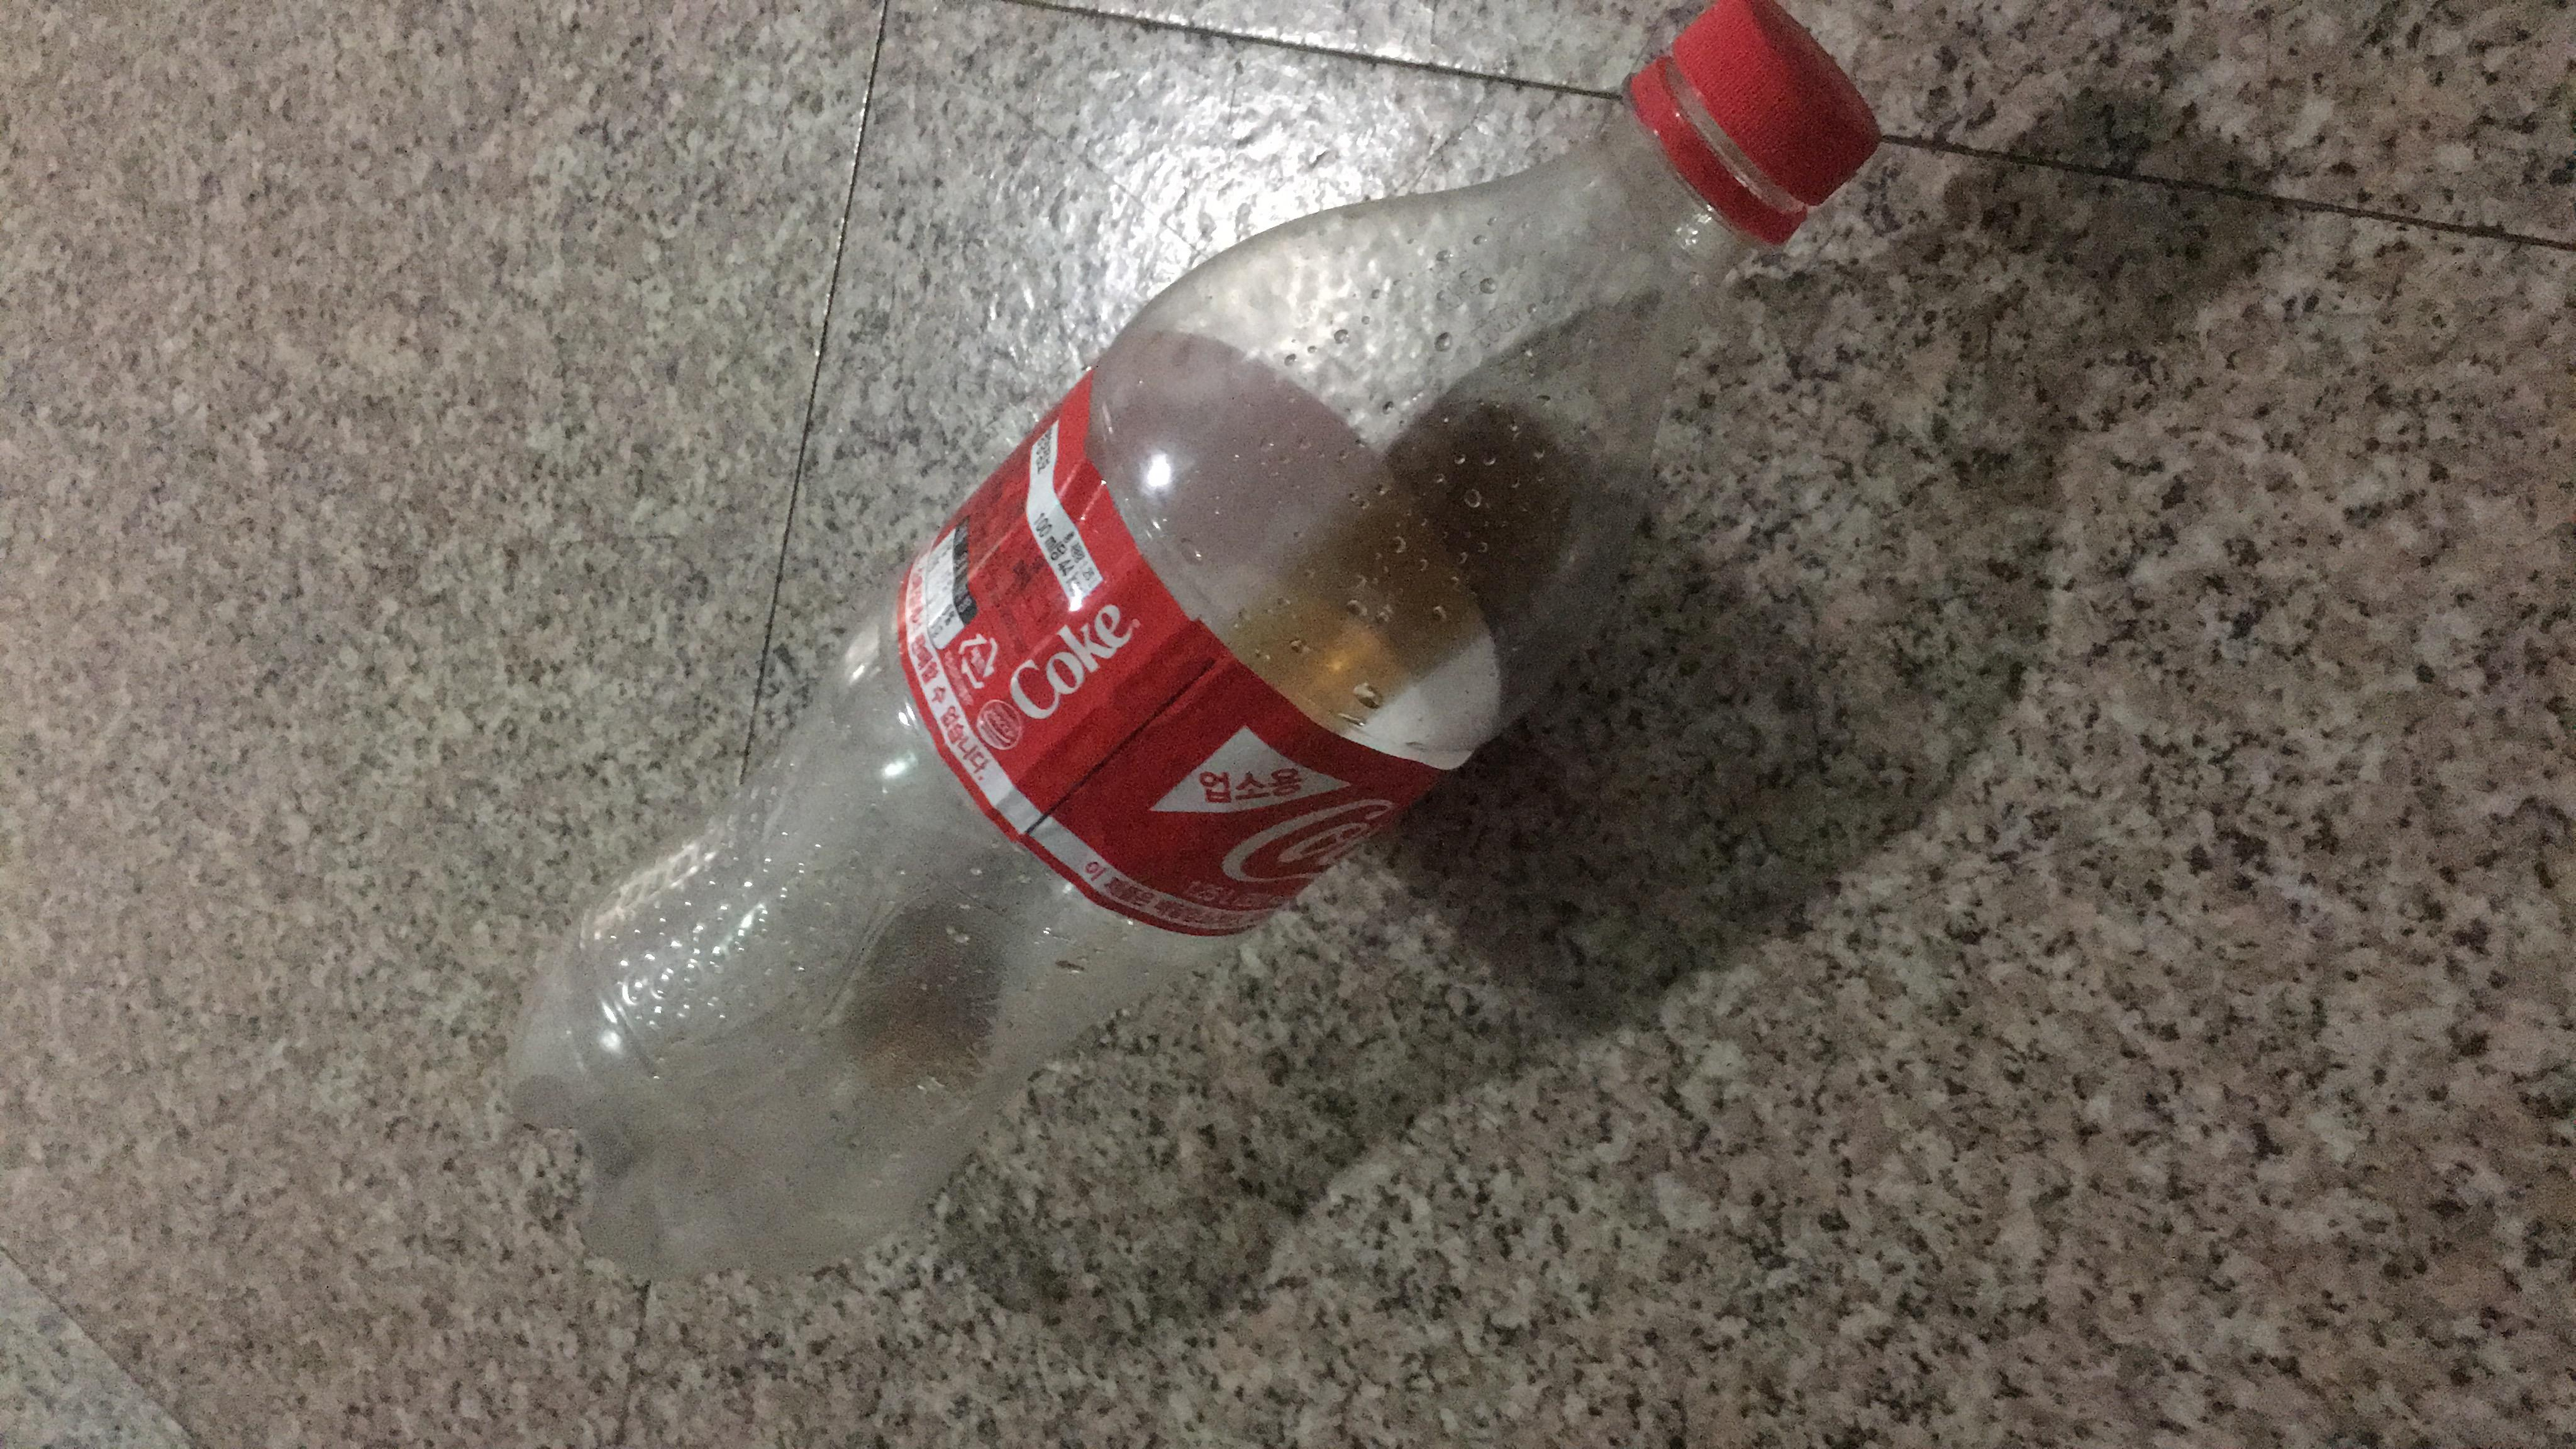bottle: (177, 264, 2555, 1077)
